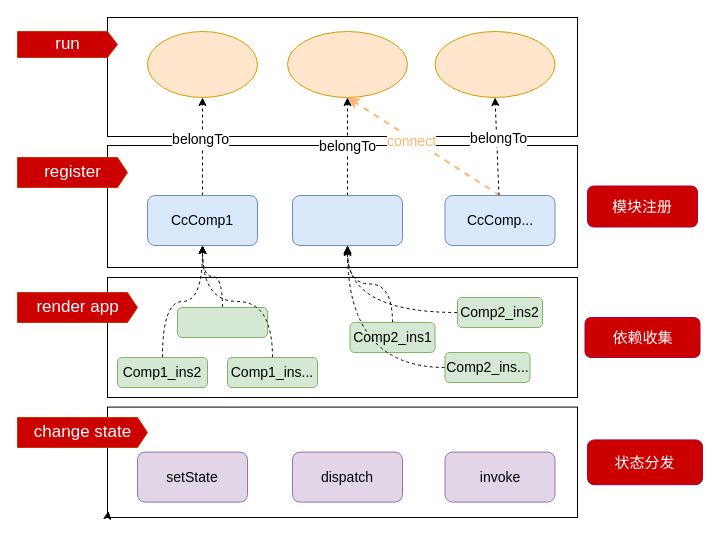
This 720x538 diagram has some shape labels left out. The shapes that lost their labels are listed below. From the top down, each one's centre as x and y in pixels, then its label:
point 202,64: Module1
point 347,64: Module2
point 494,64: Module...
point 347,220: CcComp2
point 222,322: Comp1_ins1
